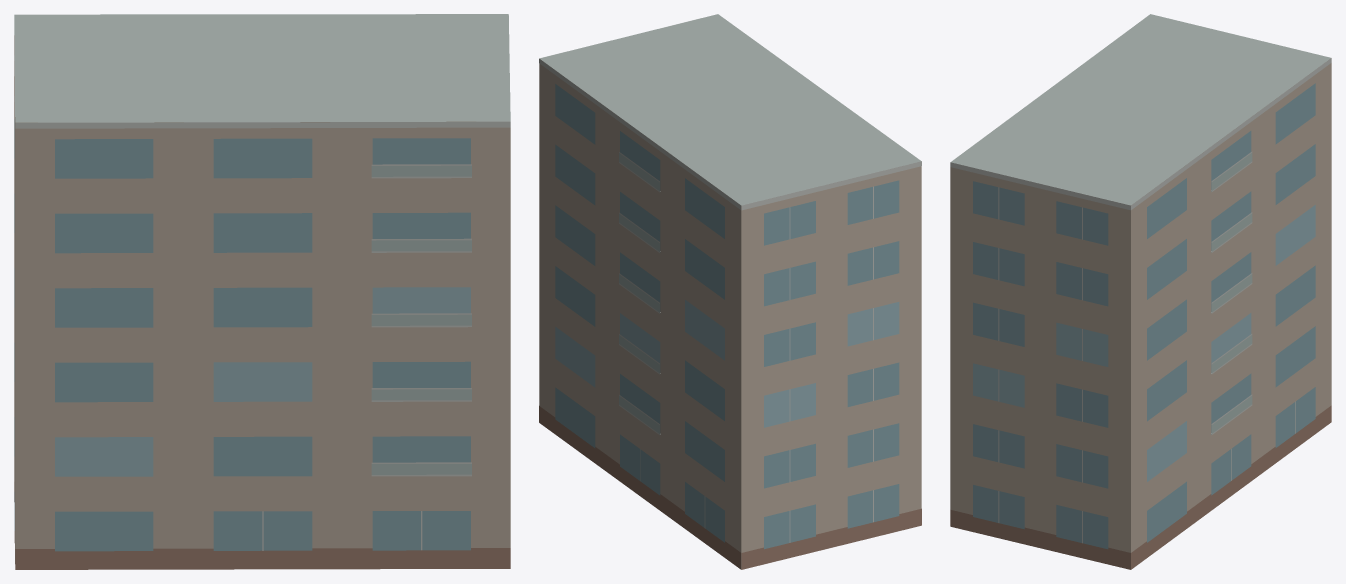
Rendered from survey-upis-33005358.glb.
3 renders of one model, left to right at view 1: azimuth 30°, elevation 25°; view 2: azimuth 150°, elevation 25°; view 3: azimuth 270°, elevation 25°, orthographic. The views are drawn at different scales.
Parts seen in each view (by area): view 1: survey-upis-33005358.tmp; view 2: survey-upis-33005358.tmp; view 3: survey-upis-33005358.tmp.
Part boxes in pixels (left/top/right/bottom): survey-upis-33005358.tmp: left=14, top=14, right=510, bottom=569; survey-upis-33005358.tmp: left=539, top=14, right=921, bottom=569; survey-upis-33005358.tmp: left=950, top=14, right=1331, bottom=569.
Size of the model in its own units: 20.64 by 18.3 by 17.36.
